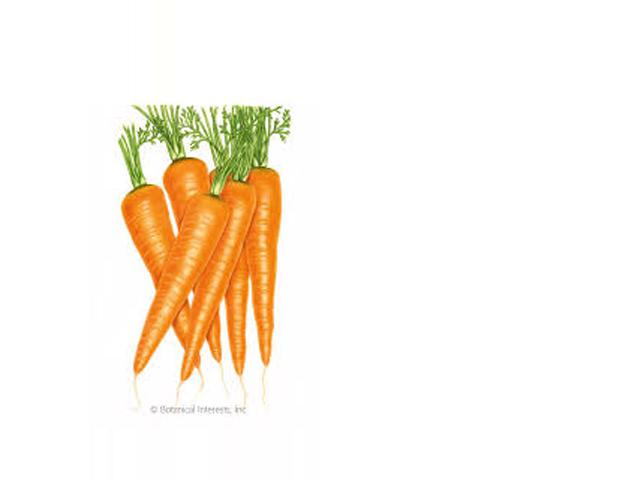carrot: (199, 177, 256, 403)
